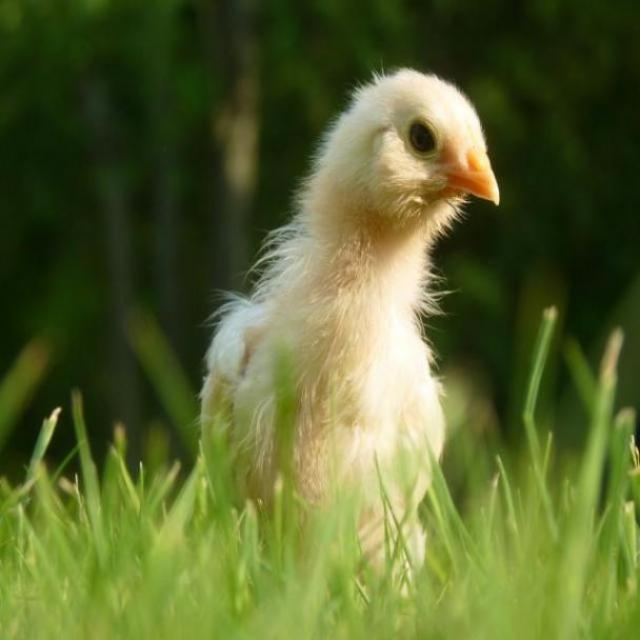Chicken: (184, 58, 497, 619)
